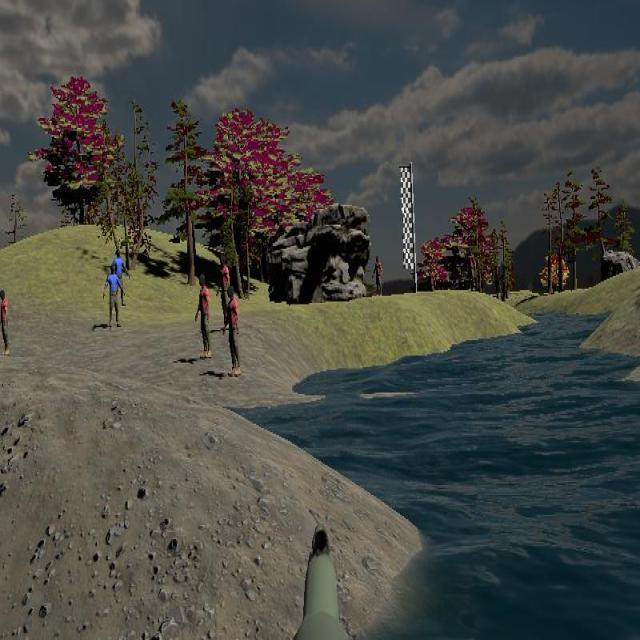Human: (195, 274, 212, 359), (103, 264, 124, 329), (111, 247, 130, 307), (217, 253, 231, 332), (0, 289, 10, 356)
